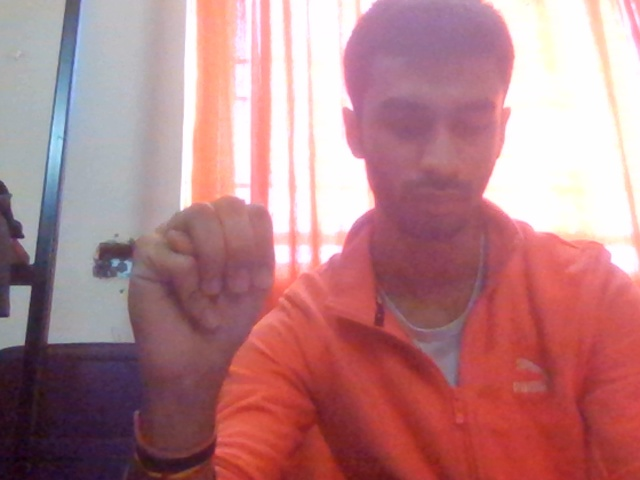M: (96, 155, 325, 423)
